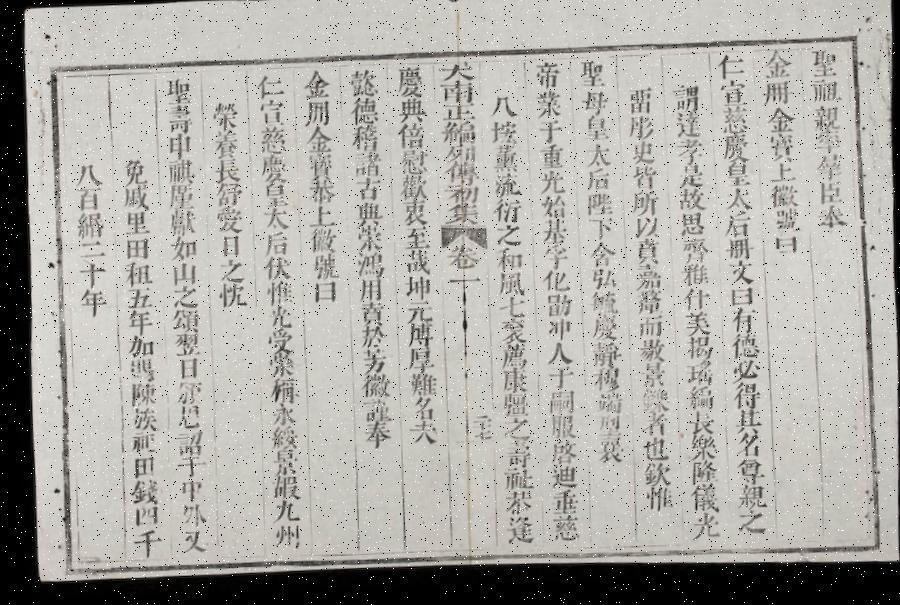c: (392, 67, 426, 102), (758, 54, 794, 87), (805, 54, 841, 86), (682, 486, 718, 518), (442, 246, 480, 276), (436, 123, 478, 150), (356, 420, 391, 452), (345, 69, 380, 101), (299, 70, 332, 103), (574, 62, 608, 94), (530, 92, 564, 124), (495, 440, 530, 471), (124, 528, 159, 559), (667, 87, 702, 118), (444, 277, 480, 307), (496, 518, 532, 548), (682, 516, 718, 546), (622, 90, 656, 121), (72, 286, 107, 316), (208, 100, 240, 132), (716, 110, 750, 140), (402, 419, 436, 449), (437, 83, 476, 109), (728, 514, 764, 542), (764, 138, 796, 169), (256, 180, 289, 210), (543, 490, 576, 520), (728, 461, 761, 491), (714, 58, 747, 88), (124, 477, 158, 506), (810, 159, 844, 188), (588, 441, 622, 470), (118, 260, 152, 289), (70, 211, 104, 240), (346, 99, 380, 128), (585, 344, 619, 373), (394, 176, 428, 205), (728, 488, 763, 516), (402, 373, 437, 401), (759, 86, 794, 114), (812, 211, 848, 238), (435, 64, 477, 87), (117, 156, 148, 187), (487, 148, 519, 178), (162, 77, 194, 107), (211, 206, 243, 236), (530, 64, 562, 94), (208, 130, 240, 160), (256, 126, 288, 156), (726, 386, 759, 415), (676, 241, 709, 270), (256, 155, 289, 184), (494, 319, 527, 348), (302, 154, 335, 183), (585, 317, 618, 346), (762, 112, 796, 140), (543, 518, 577, 546), (265, 524, 299, 552), (808, 111, 842, 139), (72, 260, 106, 288), (765, 188, 799, 216), (212, 282, 246, 310), (346, 127, 380, 155), (442, 205, 480, 230), (355, 375, 390, 402), (307, 254, 338, 284), (718, 139, 750, 168), (162, 106, 194, 135), (172, 527, 204, 556), (264, 377, 296, 406), (354, 349, 386, 378), (441, 164, 478, 189), (252, 73, 285, 101), (679, 364, 712, 392), (302, 180, 335, 208), (351, 253, 384, 281), (265, 475, 298, 503), (259, 256, 292, 284), (494, 346, 527, 374), (637, 490, 670, 518), (492, 274, 525, 302), (724, 338, 757, 366), (164, 209, 197, 237), (586, 370, 620, 397), (262, 426, 296, 453), (807, 85, 841, 112), (348, 154, 382, 181), (164, 236, 198, 263), (495, 468, 530, 494), (630, 242, 660, 272), (301, 100, 331, 130), (728, 435, 759, 464), (633, 365, 665, 393), (536, 222, 568, 250), (720, 216, 752, 244), (630, 294, 662, 322), (255, 100, 287, 128), (486, 96, 518, 124), (352, 228, 384, 256), (680, 413, 712, 441), (542, 442, 574, 470), (716, 86, 748, 114), (70, 160, 102, 188), (126, 406, 158, 434), (577, 93, 609, 121), (670, 116, 702, 144), (210, 182, 242, 210), (398, 251, 430, 279), (488, 176, 520, 204), (302, 128, 334, 156), (627, 194, 659, 222), (486, 122, 518, 150), (162, 158, 194, 186), (394, 125, 426, 153), (304, 228, 336, 256), (671, 143, 704, 170), (542, 466, 575, 493), (495, 371, 528, 398), (395, 152, 428, 179), (393, 100, 426, 127), (166, 308, 200, 334), (356, 402, 390, 428), (168, 430, 202, 456), (307, 280, 338, 308), (119, 209, 150, 237), (584, 245, 615, 273), (214, 258, 245, 286), (720, 166, 751, 194), (722, 264, 753, 292), (397, 202, 428, 230), (71, 185, 103, 212), (124, 381, 156, 408), (673, 168, 705, 195), (401, 324, 433, 351), (168, 332, 200, 359), (680, 389, 712, 416), (578, 120, 610, 147), (678, 315, 710, 342), (813, 186, 845, 213), (172, 502, 204, 529), (588, 416, 620, 443), (264, 450, 296, 477), (727, 413, 759, 440), (683, 438, 715, 465), (542, 417, 574, 444), (162, 133, 194, 160), (401, 349, 433, 376), (163, 184, 195, 211), (399, 277, 431, 304), (580, 147, 612, 174), (624, 119, 656, 146), (121, 334, 154, 360), (675, 267, 708, 293), (497, 492, 530, 518), (265, 500, 298, 526), (634, 392, 667, 418), (490, 250, 523, 276), (170, 404, 200, 432), (122, 308, 152, 336), (721, 192, 752, 219), (118, 185, 149, 212), (724, 312, 755, 339), (210, 159, 241, 186), (629, 269, 660, 296), (542, 368, 573, 395), (351, 203, 382, 230), (582, 196, 613, 223), (442, 186, 480, 208), (584, 294, 616, 320), (400, 302, 432, 328), (676, 291, 708, 317), (258, 232, 290, 258), (496, 418, 528, 444), (537, 272, 569, 298), (496, 394, 528, 420), (170, 380, 202, 406), (682, 463, 714, 489), (634, 416, 666, 442), (262, 354, 294, 380), (636, 465, 668, 491), (542, 392, 574, 418), (123, 357, 155, 383), (768, 214, 800, 240), (494, 298, 526, 324), (679, 340, 711, 366), (674, 192, 706, 218), (720, 242, 752, 268), (490, 226, 522, 252), (534, 174, 566, 200), (488, 202, 520, 228), (404, 398, 434, 425), (627, 169, 657, 196), (636, 439, 666, 466), (541, 344, 571, 371), (676, 216, 706, 243), (540, 296, 570, 323), (167, 285, 198, 311), (536, 198, 567, 224), (350, 179, 381, 205), (632, 341, 663, 367), (261, 282, 292, 308), (628, 219, 660, 244), (439, 147, 479, 167), (726, 363, 758, 388), (584, 271, 616, 296), (538, 248, 568, 274), (354, 304, 384, 330), (626, 145, 656, 171), (120, 236, 150, 262), (167, 261, 197, 287), (262, 330, 292, 356), (172, 477, 202, 503), (534, 148, 564, 174), (581, 172, 611, 198), (436, 106, 477, 125), (810, 137, 842, 161), (588, 395, 620, 419), (264, 404, 296, 428), (126, 504, 158, 528), (124, 431, 156, 455), (120, 287, 152, 311), (258, 208, 290, 232), (353, 280, 382, 306), (534, 123, 564, 148), (584, 221, 614, 246), (355, 327, 385, 352), (631, 320, 662, 344), (126, 454, 155, 479), (400, 229, 430, 253), (305, 206, 335, 230), (768, 240, 798, 264), (262, 307, 292, 331), (541, 322, 571, 346), (171, 455, 202, 478), (764, 168, 796, 190), (466, 417, 490, 446), (214, 235, 242, 259), (171, 357, 199, 380), (74, 240, 106, 260), (724, 291, 752, 313)
